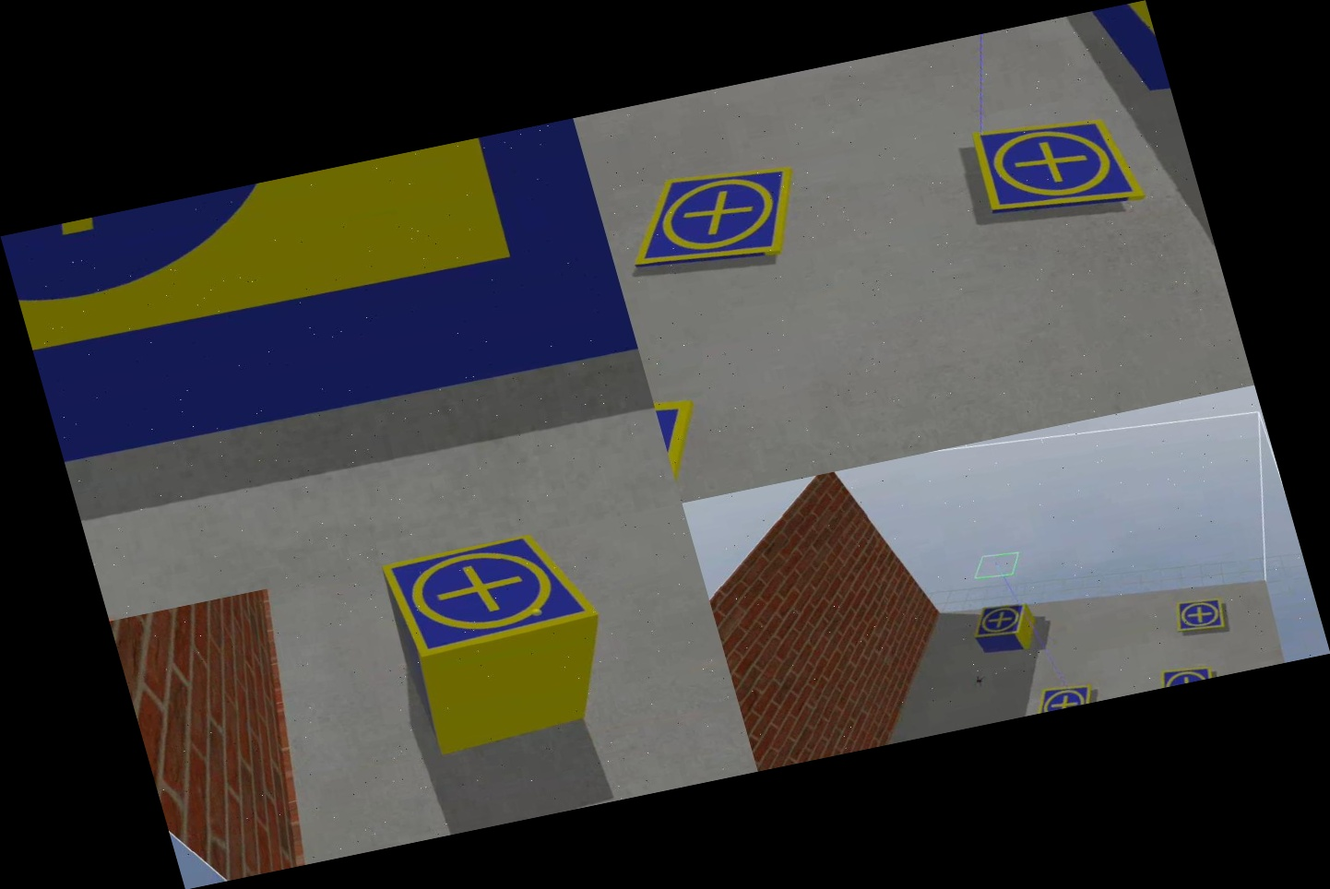large_base: (1, 118, 646, 492)
small_base: (374, 524, 611, 675), (607, 143, 817, 289), (963, 99, 1155, 234), (968, 598, 1034, 640), (1170, 593, 1230, 637), (1027, 679, 1096, 714), (1153, 659, 1214, 688)
